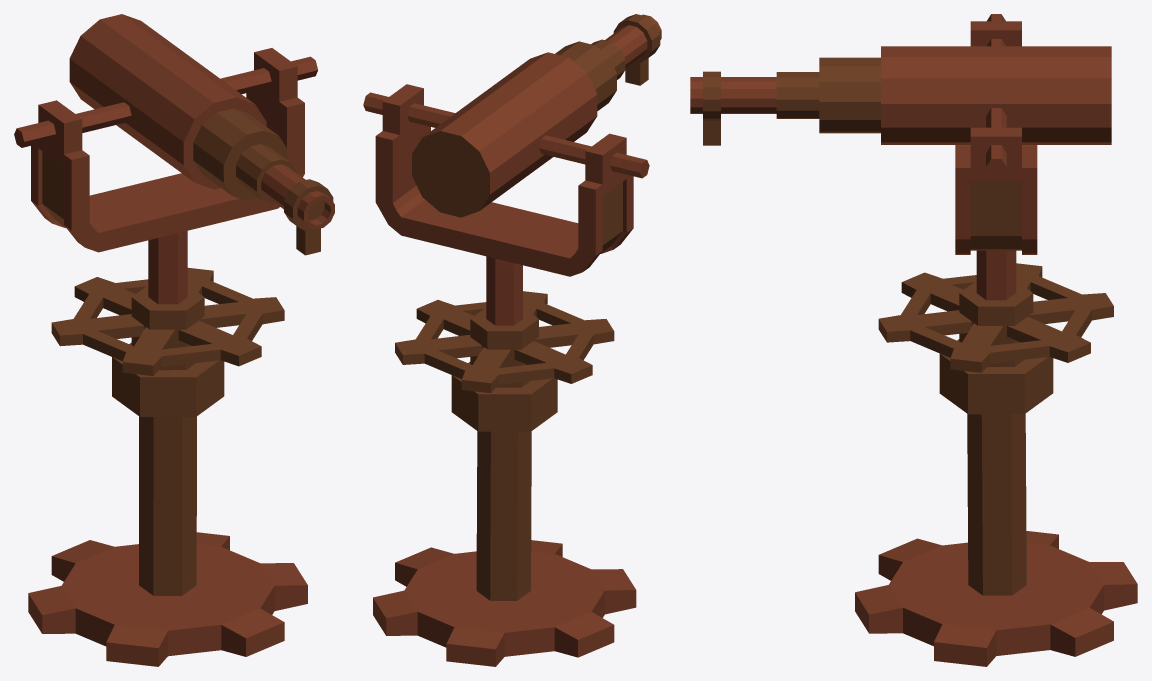
The model's file is Gun.glb.
3 renders of one model, left to right at view 1: azimuth 30°, elevation 25°; view 2: azimuth 150°, elevation 25°; view 3: azimuth 270°, elevation 25°, orthographic. The views are drawn at different scales.
Visible parts, largest first — view 1: Gun_Simple_Mid, Gun_Simple_Gun, Gun_Simple_Base; view 2: Gun_Simple_Mid, Gun_Simple_Gun, Gun_Simple_Base; view 3: Gun_Simple_Mid, Gun_Simple_Gun, Gun_Simple_Base.
Part boxes in pixels (x1=…): Gun_Simple_Mid: x1=14, y1=48, x2=317, y2=595; Gun_Simple_Gun: x1=69, y1=14, x2=334, y2=255; Gun_Simple_Base: x1=28, y1=532, x2=307, y2=666; Gun_Simple_Mid: x1=363, y1=84, x2=649, y2=600; Gun_Simple_Gun: x1=412, y1=14, x2=661, y2=217; Gun_Simple_Base: x1=373, y1=540, x2=636, y2=666; Gun_Simple_Mid: x1=878, y1=14, x2=1113, y2=595; Gun_Simple_Gun: x1=690, y1=46, x2=1111, y2=145; Gun_Simple_Base: x1=855, y1=531, x2=1137, y2=666.
Bounding box in the file's own units: 0.9362 × 1.68 × 1.22.
